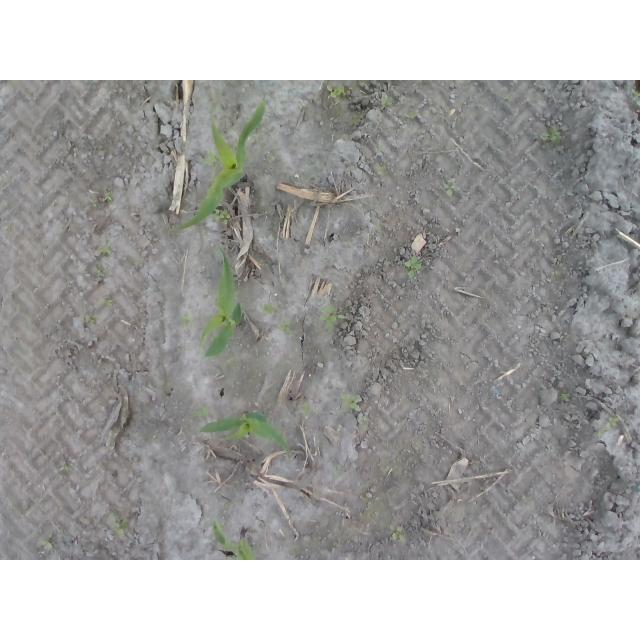Maize: (178, 100, 266, 230), (198, 246, 246, 357), (200, 411, 289, 450), (212, 520, 257, 560)
Weeds: (319, 305, 338, 330), (406, 255, 423, 281), (342, 394, 363, 411), (328, 85, 349, 100), (541, 129, 561, 144), (444, 178, 460, 196), (390, 525, 406, 543), (179, 314, 197, 329), (279, 320, 294, 336), (205, 148, 217, 167), (216, 210, 230, 225), (115, 521, 129, 536), (606, 415, 620, 427), (39, 536, 53, 548), (301, 401, 311, 416), (193, 407, 208, 417), (100, 244, 112, 256), (260, 303, 272, 315), (383, 97, 393, 108), (103, 298, 113, 307), (105, 191, 114, 201), (561, 393, 568, 401)
